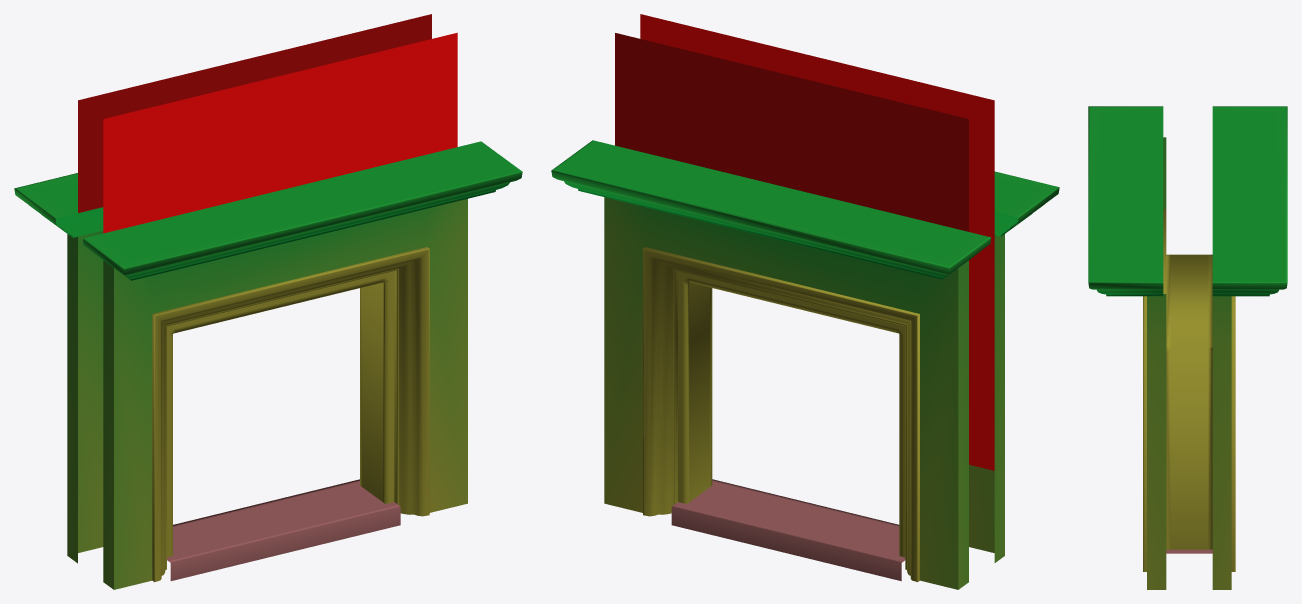
File: SM_ExttoIntA.fbx
The picture shows the model from 3 angles, left to right: view 1: azimuth 30°, elevation 25°; view 2: azimuth 150°, elevation 25°; view 3: azimuth 270°, elevation 25°; orthographic projection. The views are drawn at different scales.
Visible parts, largest first — view 1: SM_ExttoIntA; view 2: SM_ExttoIntA; view 3: SM_ExttoIntA.
Part boxes in pixels (x1=…): SM_ExttoIntA: x1=14, y1=14, x2=522, y2=589; SM_ExttoIntA: x1=551, y1=14, x2=1059, y2=589; SM_ExttoIntA: x1=1088, y1=106, x2=1287, y2=589.
Bounding box in the file's own units: 450 × 510 × 215.
